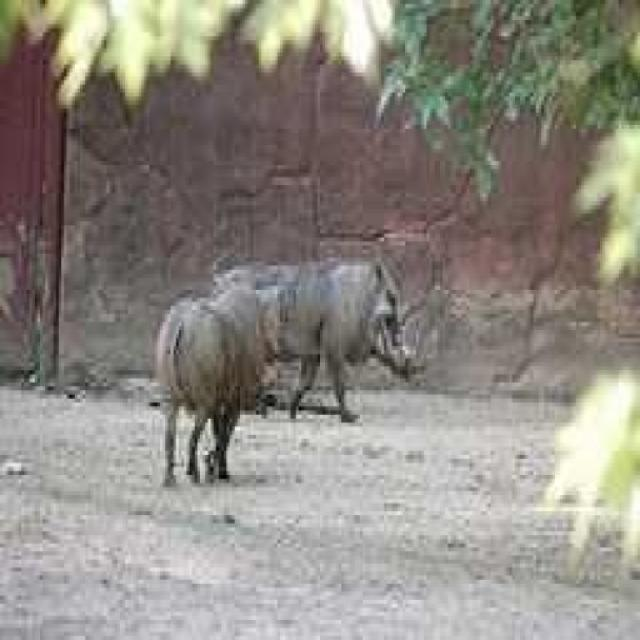pig: (120, 242, 332, 473)
